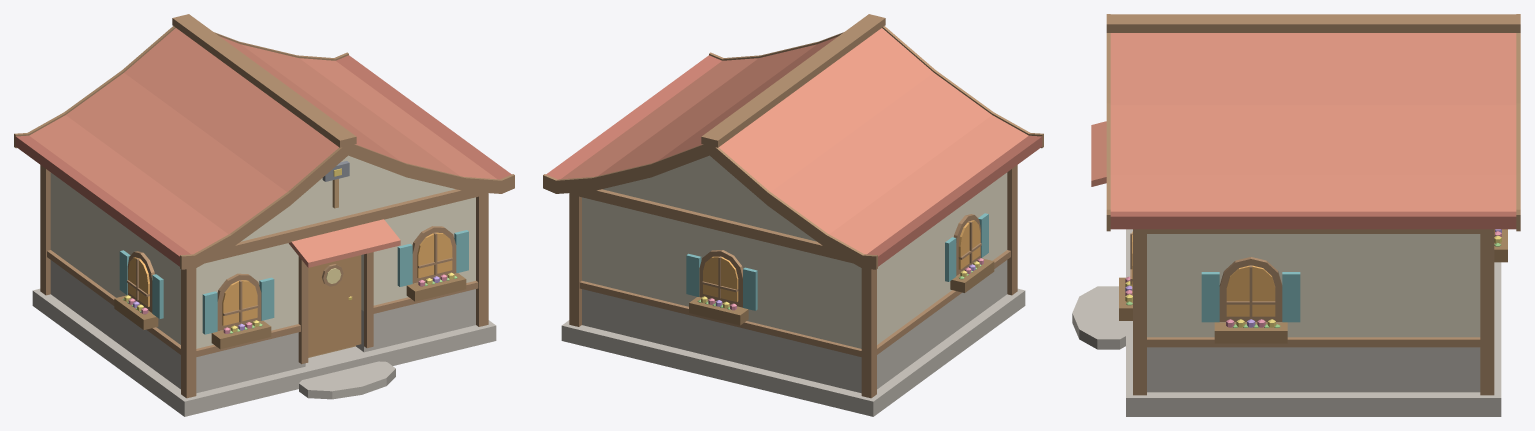
Rendered from forge_cream.glb.
The picture shows the model from 3 angles, left to right: view 1: azimuth 30°, elevation 25°; view 2: azimuth 150°, elevation 25°; view 3: azimuth 270°, elevation 25°; orthographic projection. The views are drawn at different scales.
Parts seen in each view (by area): view 1: Player; view 2: Player; view 3: Player.
Boxes of the visible parts, bbox=[...] form: Player: bbox=[14, 14, 514, 416]; Player: bbox=[543, 14, 1043, 416]; Player: bbox=[1072, 14, 1520, 416].
Size of the model in its own units: 6.84 by 4.82 by 6.45.
